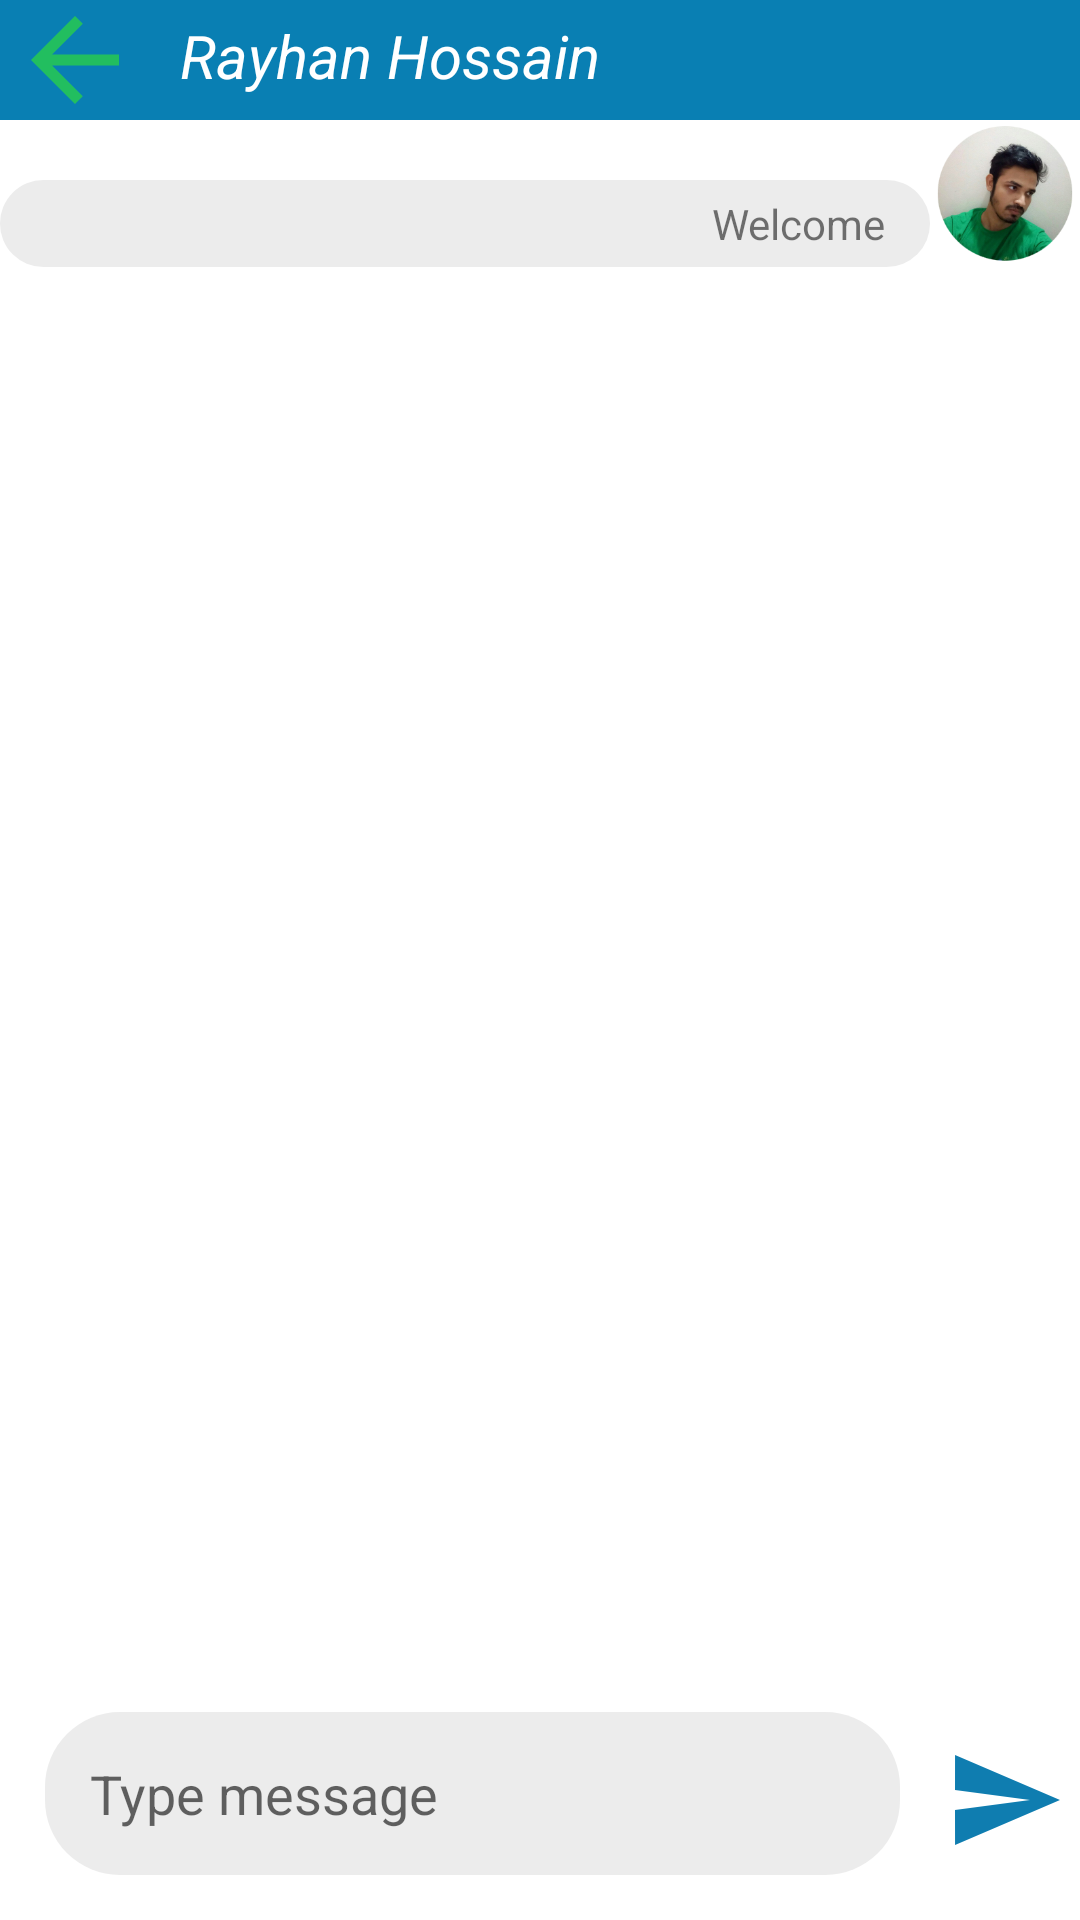

Named icons in this screenshot (1080x1920) and their centers, (x,y):
back: (75,60)
send: (1007,1800)
